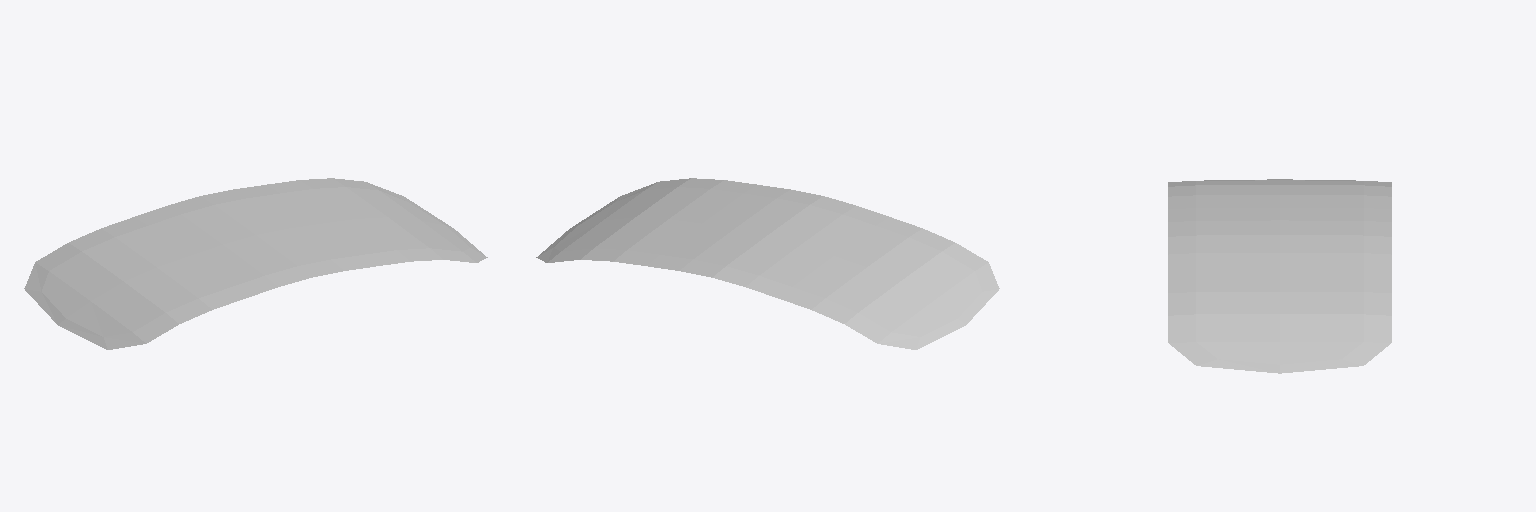
File: roof.obj
3 views of the same model, side by side, from view 1: azimuth 30°, elevation 25°; view 2: azimuth 150°, elevation 25°; view 3: azimuth 270°, elevation 25° (orthographic).
Visible parts, largest first — view 1: Cube.001; view 2: Cube.001; view 3: Cube.001.
Part boxes in pixels (x1,y1,x2,y2): Cube.001: (24,178,487,349); Cube.001: (536,178,999,349); Cube.001: (1168,179,1391,373).
Size of the model in its own units: 12.26 by 1.24 by 5.98.